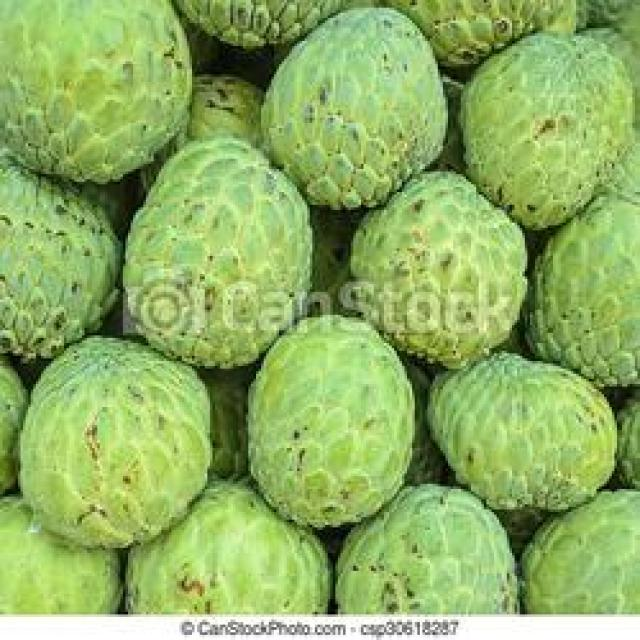apple: (118, 133, 320, 371), (18, 333, 215, 550), (338, 166, 532, 368), (243, 310, 425, 522), (261, 5, 446, 213), (456, 38, 612, 220)
